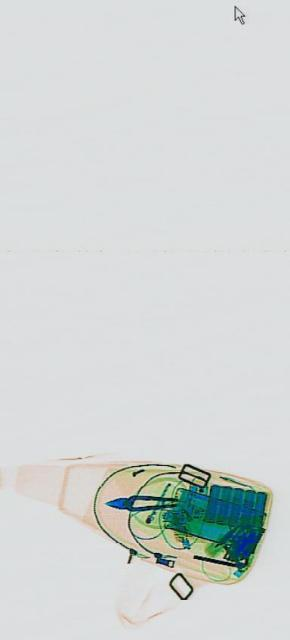Scissors: (105, 474, 183, 530)
